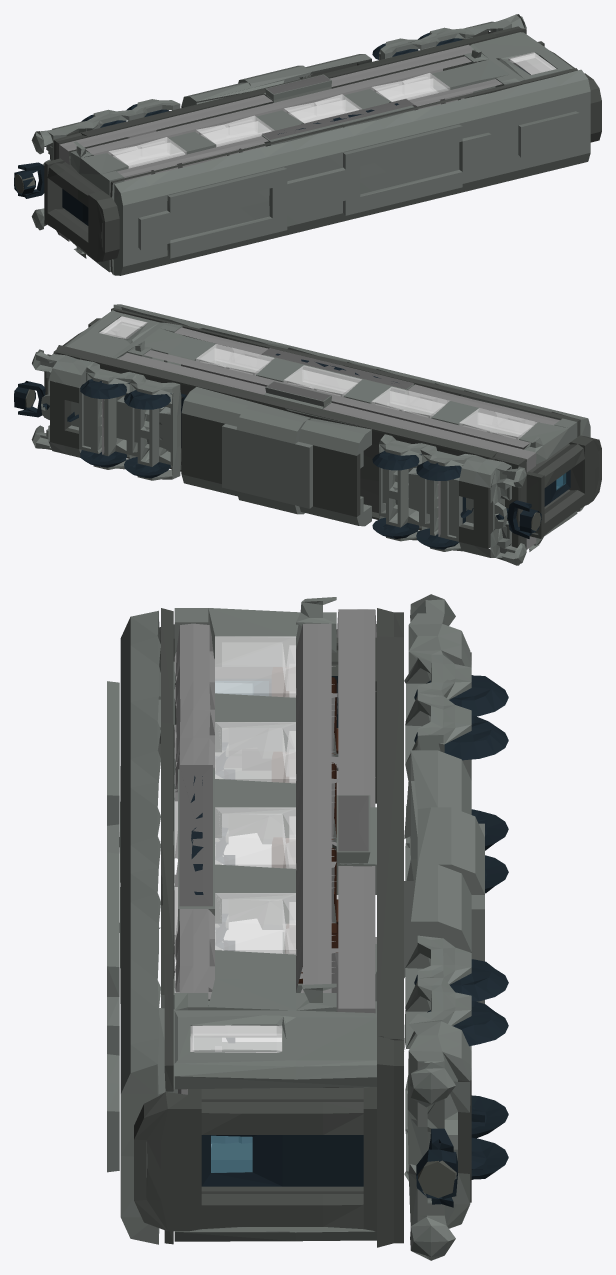
Rendered from sleeping-car.glb.
3 views of the same model, one above another, from view 1: azimuth 30°, elevation 25°; view 2: azimuth 150°, elevation 25°; view 3: azimuth 270°, elevation 25° (orthographic). The views are drawn at different scales.
Bounding box in the file's own units: 283 × 57.63 × 95.22.
